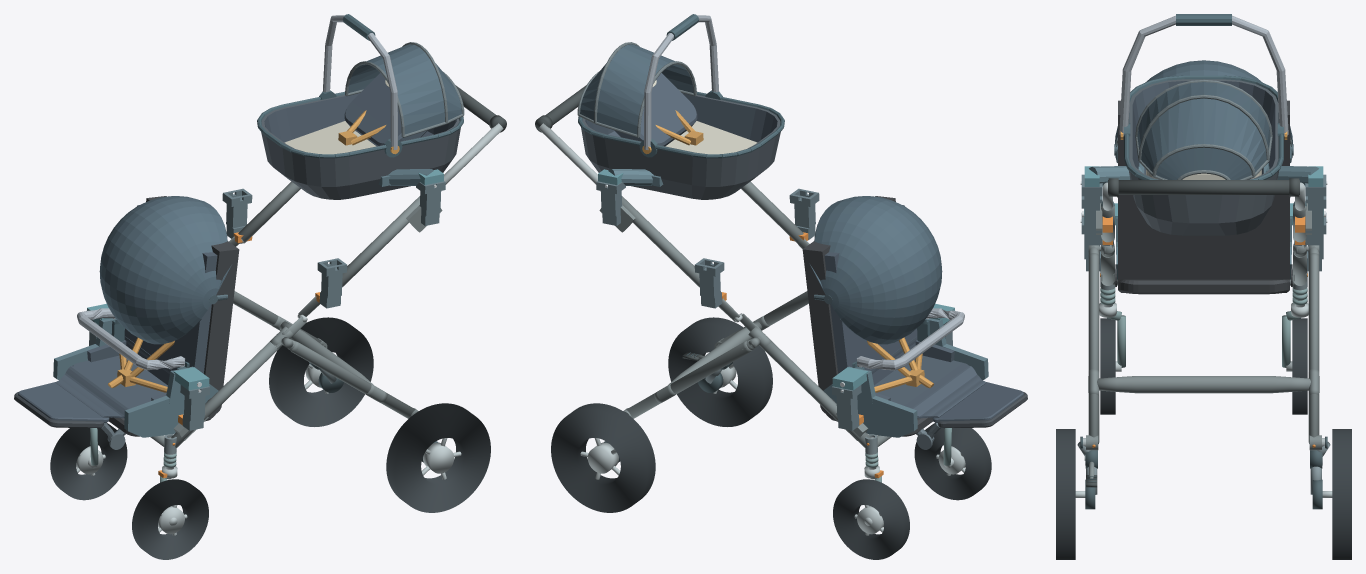
File: D06_w550_state1_wheel_M.glb
3 views of the same model, side by side, from view 1: azimuth 30°, elevation 25°; view 2: azimuth 150°, elevation 25°; view 3: azimuth 270°, elevation 25° (orthographic). The views are drawn at different scales.
Visible parts, largest first — view 1: D06_Lower, D06_Upper, RL_tire.002, RR_tire.002, FL_tire.002, D06_Lower_Mount_L, FR_tire.002, V46_rear_leg_-1.003, main_lower_-1.003, main_upper_-1.003, Universal_Cabin_Receiver_M_-1, Universal_Cabin_Receiver_M_1 (+8 smaller); view 2: D06_Lower, D06_Upper, RR_tire.002, RL_tire.002, FR_tire.002, D06_Lower_Mount_L, FL_tire.002, V46_rear_leg_1.003, main_lower_1.003, main_upper_1.003, Universal_Cabin_Receiver_M_1, Universal_Cabin_Receiver_M_-1 (+8 smaller); view 3: D06_Upper, D06_Lower, V46_rearbar.003, RL_tire.002, RR_tire.002, round_handle.002, V46_rear_leg_1.003, V46_rear_leg_-1.003, D06_Upper_Mount_H, FL_tire.002, FR_tire.002, Universal_Cabin_Receiver_H_1 (+6 smaller).
Part boxes in pixels (x1,y1,x2,y2): D06_Lower: [14, 196, 239, 449]; D06_Upper: [257, 14, 464, 199]; RL_tire.002: [386, 403, 490, 512]; RR_tire.002: [269, 317, 373, 426]; FL_tire.002: [132, 479, 208, 559]; D06_Lower_Mount_L: [53, 303, 218, 437]; FR_tire.002: [50, 422, 127, 500]; V46_rear_leg_-1.003: [290, 341, 415, 418]; main_lower_-1.003: [171, 341, 281, 447]; main_upper_-1.003: [342, 196, 419, 286]; Universal_Cabin_Receiver_M_-1: [317, 258, 347, 308]; Universal_Cabin_Receiver_M_1: [222, 188, 252, 238]; D06_Lower: [802, 196, 1027, 449]; D06_Upper: [577, 14, 784, 199]; RR_tire.002: [551, 403, 655, 512]; RL_tire.002: [668, 317, 772, 426]; FR_tire.002: [833, 479, 909, 559]; D06_Lower_Mount_L: [823, 303, 988, 437]; FL_tire.002: [914, 422, 991, 500]; V46_rear_leg_1.003: [626, 341, 751, 418]; main_lower_1.003: [760, 341, 870, 447]; main_upper_1.003: [622, 196, 699, 286]; Universal_Cabin_Receiver_M_1: [694, 258, 724, 308]; Universal_Cabin_Receiver_M_-1: [789, 188, 819, 239]; D06_Upper: [1119, 14, 1288, 235]; D06_Lower: [1114, 60, 1293, 294]; V46_rearbar.003: [1097, 376, 1310, 393]; RL_tire.002: [1056, 429, 1075, 559]; RR_tire.002: [1332, 429, 1351, 559]; round_handle.002: [1108, 180, 1299, 194]; V46_rear_leg_1.003: [1308, 253, 1319, 443]; V46_rear_leg_-1.003: [1088, 253, 1099, 443]; D06_Upper_Mount_H: [1080, 163, 1327, 186]; FL_tire.002: [1100, 318, 1115, 414]; FR_tire.002: [1292, 318, 1307, 414]; Universal_Cabin_Receiver_H_1: [1305, 174, 1326, 233].
Bounding box in the file's own units: 1.35 × 1.33 × 0.6771.
